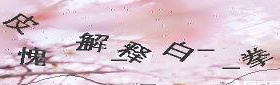chinese: (116, 35, 152, 66), (3, 10, 40, 37), (161, 38, 197, 64), (76, 33, 112, 56), (239, 49, 276, 70), (20, 47, 47, 69)
